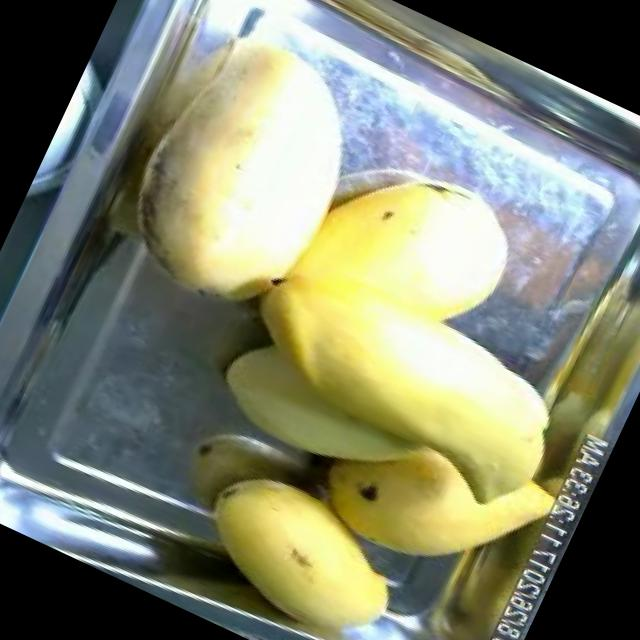fruit: (187, 114, 542, 522), (76, 0, 369, 336), (280, 390, 560, 626), (168, 438, 435, 640), (497, 238, 640, 490)
